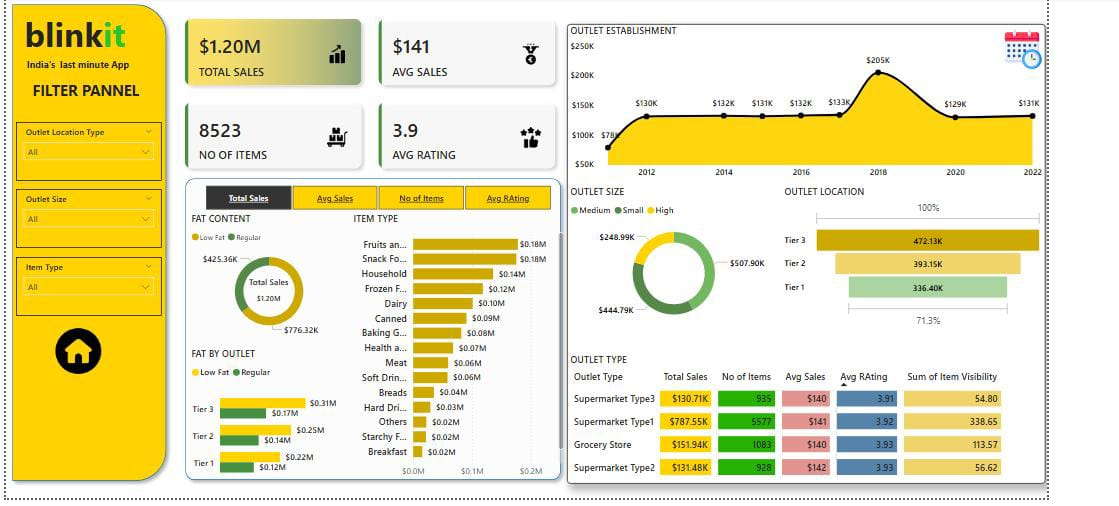

What the dashboard file says about the page in this screenshot:
{"tool":"powerbi","page":{"name":"Page 1","canvas":[1500,721],"ordinal":0},"visuals":[{"type":"shape","box":[0,0,240.2,705.5],"z":0},{"type":"textbox","box":[21.8,13.4,196.5,114.2],"z":1000},{"type":"textbox","box":[21.8,82.3,164.6,65.5],"z":2000},{"type":"cardVisual","fields":{"Data":["BlinkIT Grocery Data.Total Sales","BlinkIT Grocery Data.Avg Sales","BlinkIT Grocery Data.No of Items","BlinkIT Grocery Data.Avg RAting"]},"box":[240.3,12.9,569.4,251.6],"z":3000},{"type":"shape","box":[250,251.6,559.7,453.2],"z":4000},{"type":"donutChart","title":"FAT CONTENT","fields":{"Y":["BlinkIT Grocery Data.Total Sales"],"Category":["BlinkIT Grocery Data.Item Fat Content"]},"box":[262.9,308.1,233.9,183.9],"z":5000},{"type":"slicer","fields":{"Values":["Metrics.Metrics"]},"box":[262.9,264.5,546.8,48.4],"z":6000},{"type":"cardVisual","fields":{"Data":["BlinkIT Grocery Data.Total Sales"]},"box":[324.2,379,109.7,80.6],"z":7000},{"type":"clusteredBarChart","title":"FAT BY OUTLET","fields":{"Y":["BlinkIT Grocery Data.Total Sales"],"Category":["BlinkIT Grocery Data.Outlet Location Type"],"Series":["BlinkIT Grocery Data.Item Fat Content"]},"box":[262.9,503.2,219.4,203.2],"z":8000},{"type":"barChart","title":"ITEM TYPE","fields":{"Y":["BlinkIT Grocery Data.Total Sales"],"Category":["BlinkIT Grocery Data.Item Type"]},"box":[496.1,308.4,313.4,392.2],"z":9000},{"type":"textbox","box":[809.7,37.1,690.3,662.9],"z":10000},{"type":"lineChart","title":"OUTLET ESTABLISHMENT","fields":{"Category":["BlinkIT Grocery Data.Outlet Establishment Year"],"Y":["BlinkIT Grocery Data.Total Sales"]},"box":[809.7,37.1,690.3,232.3],"z":11000},{"type":"donutChart","title":"OUTLET SIZE","fields":{"Y":["BlinkIT Grocery Data.Total Sales"],"Category":["BlinkIT Grocery Data.Outlet Size"]},"box":[809.7,269.4,308.1,209.7],"z":12000},{"type":"funnel","title":"OUTLET LOCATION","fields":{"Y":["Sum(BlinkIT Grocery Data.Sales)"],"Category":["BlinkIT Grocery Data.Outlet Location Type"]},"box":[1117.7,269.4,382.3,209.7],"z":13000},{"type":"pivotTable","title":"OUTLET TYPE","fields":{"Rows":["BlinkIT Grocery Data.Outlet Type"],"Values":["BlinkIT Grocery Data.Total Sales","BlinkIT Grocery Data.No of Items","BlinkIT Grocery Data.Avg Sales","BlinkIT Grocery Data.Avg RAting","Sum(BlinkIT Grocery Data.Item Visibility)"]},"box":[809.7,511.3,690.3,209.7],"z":14000},{"type":"slicer","fields":{"Values":["BlinkIT Grocery Data.Outlet Location Type"]},"box":[14.5,179,209.7,85.5],"z":15000},{"type":"slicer","fields":{"Values":["BlinkIT Grocery Data.Outlet Size"]},"box":[14.5,275.8,209.7,85.5],"z":16000},{"type":"slicer","fields":{"Values":["BlinkIT Grocery Data.Item Type"]},"box":[14.5,374.2,209.7,85.5],"z":17000},{"type":"textbox","box":[33.5,114,184.4,53.6],"z":18000},{"type":"image","box":[66.1,470.6,76.1,78.1],"z":19000},{"type":"image","box":[1433,36.9,67,72.1],"z":20000}]}

Visuals, with their boxes in screenshot pixels (x1, y1, x2, y2):
shape: 0,0,167,483
textbox: 15,3,151,83
textbox: 15,51,129,97
cardVisual - BlinkIT Grocery Data.Total Sales x BlinkIT Grocery Data.Avg Sales: 167,3,562,178
shape: 173,169,562,483
"FAT CONTENT" donutChart: 182,208,345,335
slicer - Metrics.Metrics: 182,178,562,211
cardVisual - BlinkIT Grocery Data.Total Sales: 225,257,301,313
"FAT BY OUTLET" clusteredBarChart: 182,343,334,484
"ITEM TYPE" barChart: 344,208,561,480
textbox: 562,20,1040,480
"OUTLET ESTABLISHMENT" lineChart: 562,20,1040,181
"OUTLET SIZE" donutChart: 562,181,775,326
"OUTLET LOCATION" funnel: 775,181,1040,326
"OUTLET TYPE" pivotTable: 562,349,1040,494
slicer - BlinkIT Grocery Data.Outlet Location Type: 10,118,155,178
slicer - BlinkIT Grocery Data.Outlet Size: 10,185,155,245
slicer - BlinkIT Grocery Data.Item Type: 10,254,155,313
textbox: 23,73,151,110
image: 46,321,99,375
image: 994,20,1040,70
